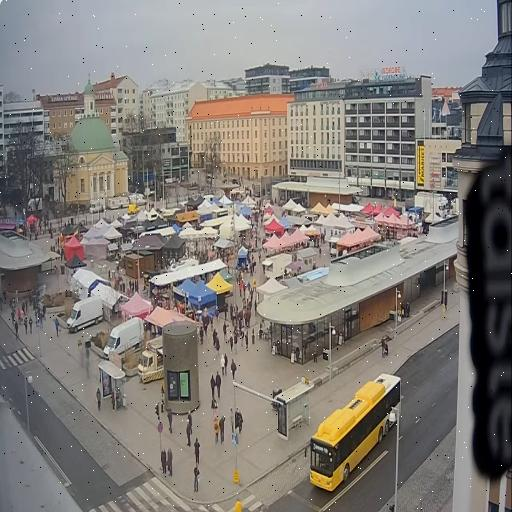Bus: (310, 374, 401, 491)
Delivery: (104, 317, 144, 359), (67, 296, 103, 332), (138, 336, 163, 383)
